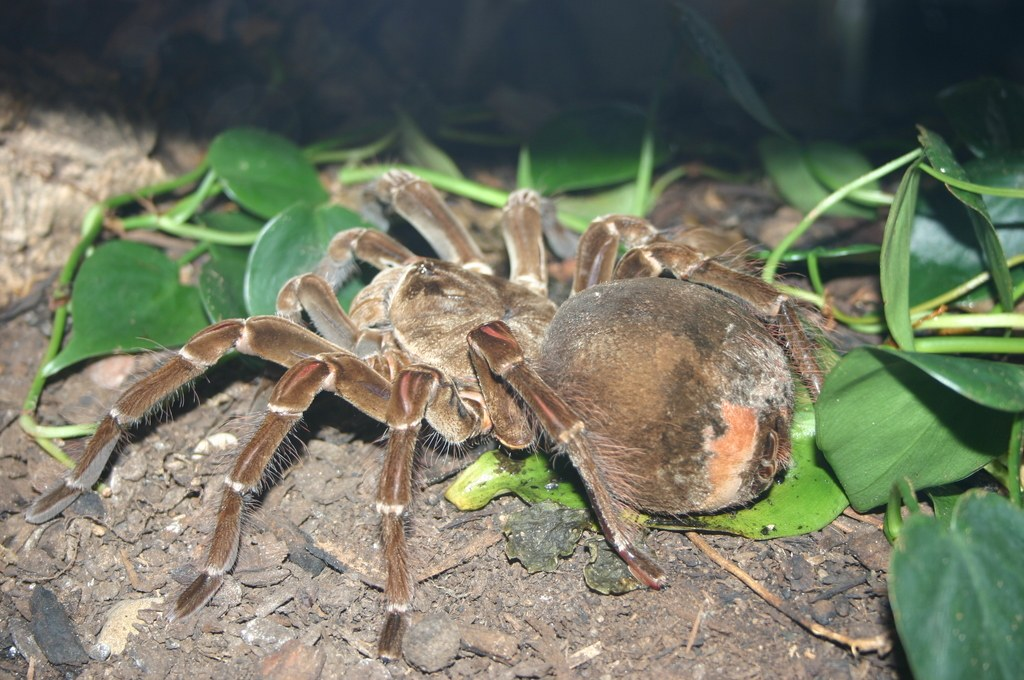insect: (21, 158, 829, 672), (19, 161, 839, 665)
